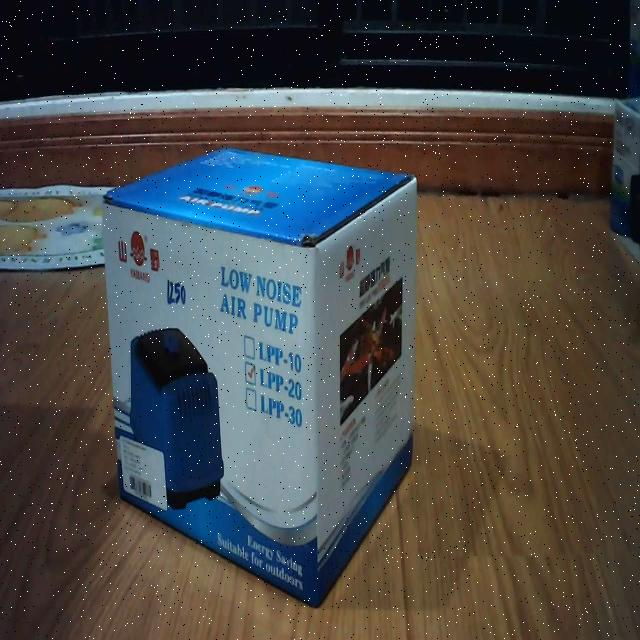YAMANO_LPP_20: (95, 128, 431, 618)
